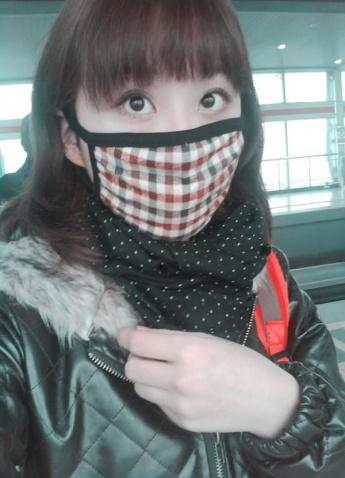OK: (76, 64, 246, 234)
